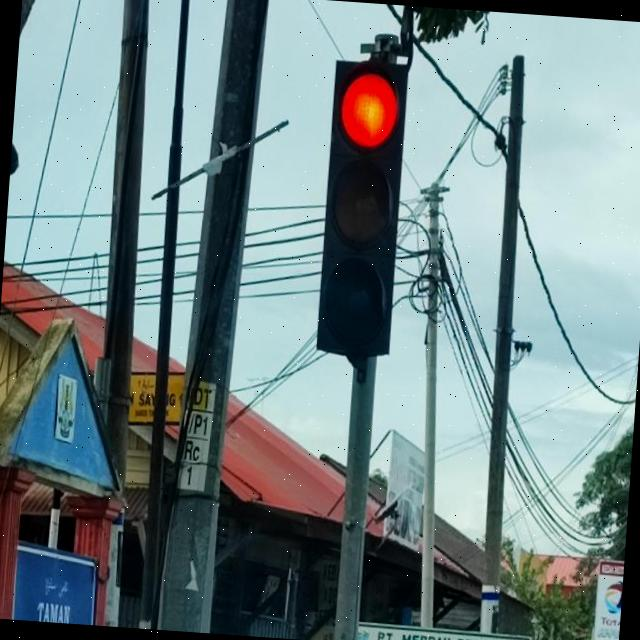red_light: (316, 60, 408, 356)
